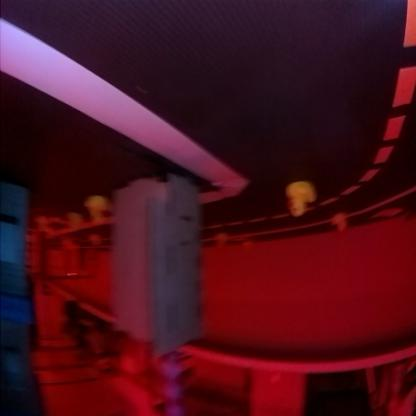Duckie: (287, 184, 315, 216), (85, 195, 107, 223), (332, 214, 347, 232)
